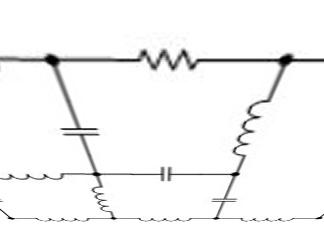inductor: (226, 86, 270, 162), (228, 208, 305, 226), (0, 165, 68, 185), (29, 206, 91, 226), (134, 207, 196, 226), (85, 179, 113, 210)
